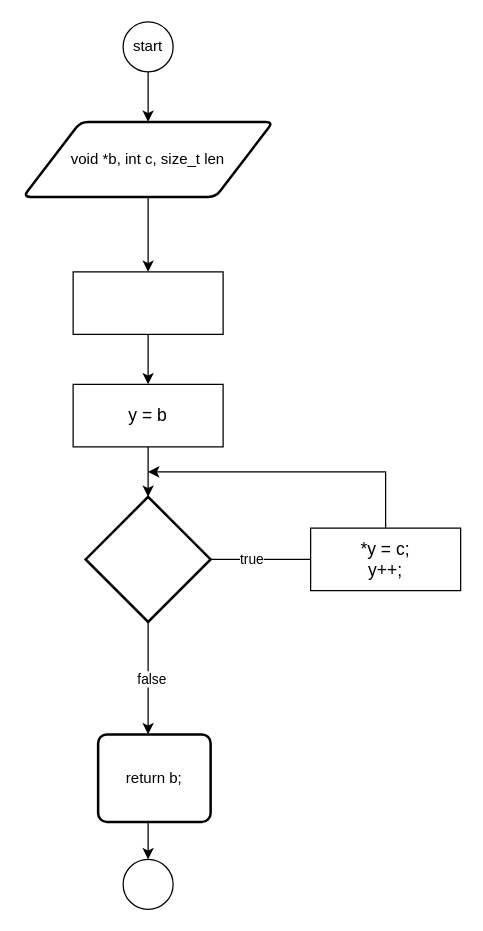
This 483x931 diagram has some shape labels left out. Each missing label, with the box of its shape:
len-- > 0: (84, 495, 211, 622)
stop: (122, 858, 173, 909)
unsign char *y: (72, 271, 223, 334)
